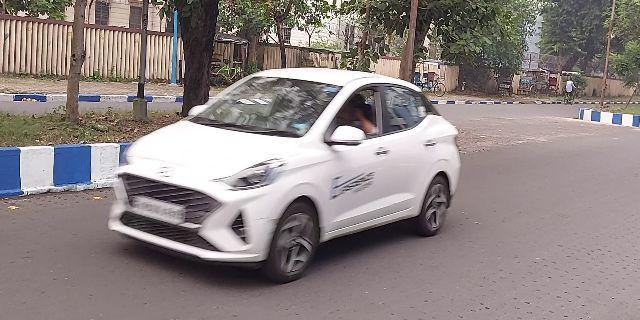Car: (98, 61, 463, 278)
